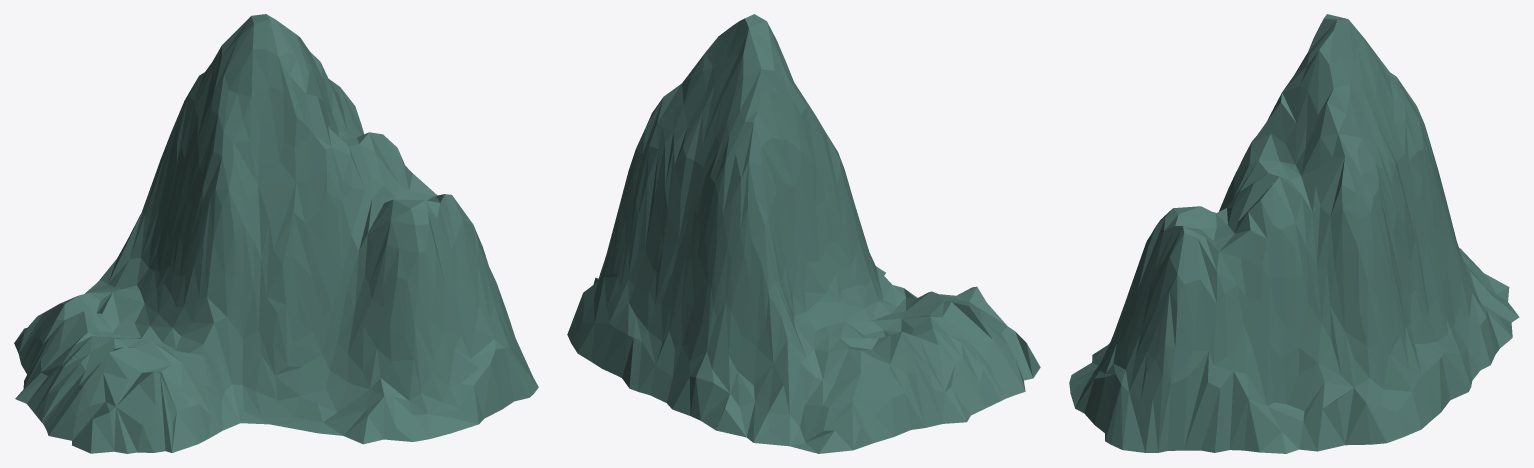
The model's file is 山体2green.fbx.
3 views of the same model, side by side, from view 1: azimuth 30°, elevation 25°; view 2: azimuth 150°, elevation 25°; view 3: azimuth 270°, elevation 25° (orthographic). The views are drawn at different scales.
Parts seen in each view (by area): view 1: 山体3-流水侵蚀; view 2: 山体3-流水侵蚀; view 3: 山体3-流水侵蚀.
Part boxes in pixels (box(x1,y1,x2,y2)): 山体3-流水侵蚀: box(14, 14, 538, 453); 山体3-流水侵蚀: box(567, 14, 1040, 453); 山体3-流水侵蚀: box(1069, 14, 1519, 453).
Size of the model in its own units: 981 by 744 by 878.
